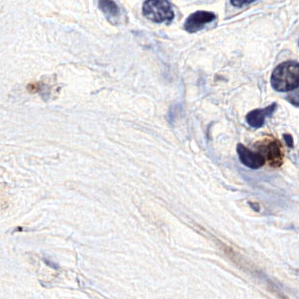Lymphocyte: (252, 133, 286, 168)
